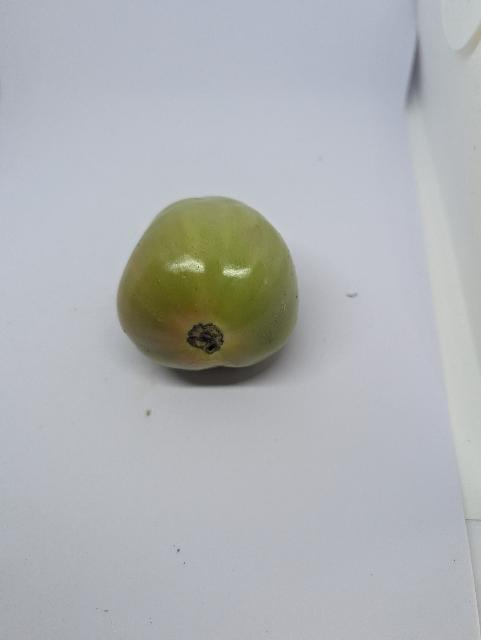green: (113, 193, 302, 373)
